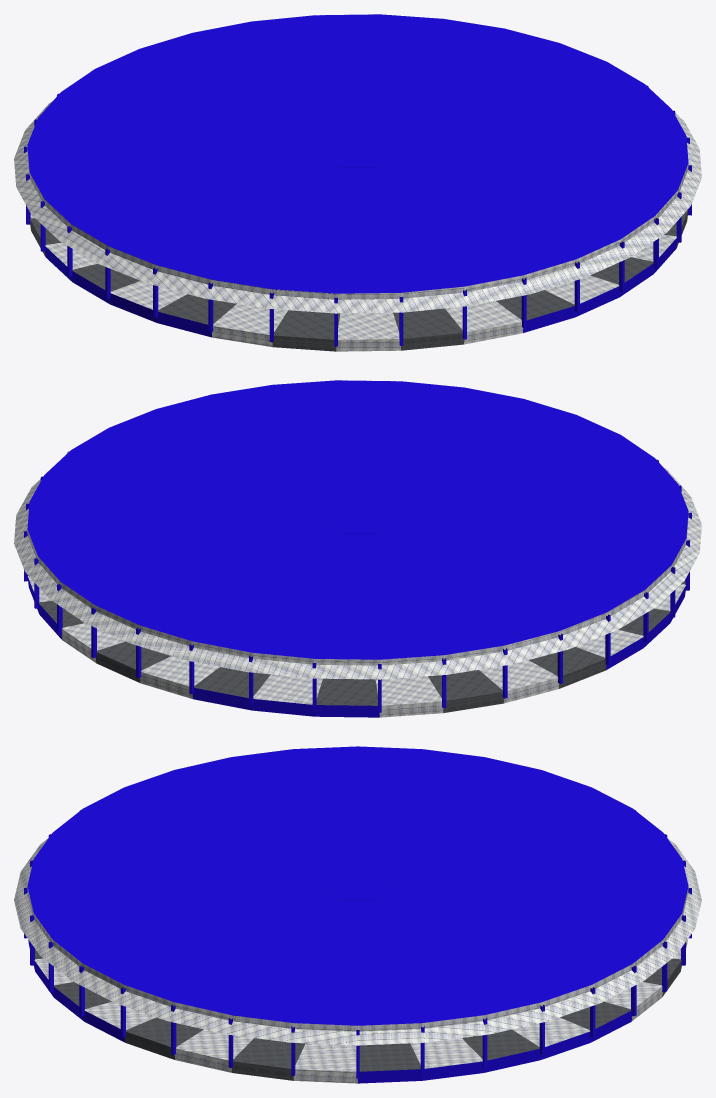
File: Floor 8.fbx
3 views of the same model, one above another, from view 1: azimuth 30°, elevation 25°; view 2: azimuth 150°, elevation 25°; view 3: azimuth 270°, elevation 25° (orthographic).
Visible parts, largest first — view 1: main.001; view 2: main.001; view 3: main.001.
Part boxes in pixels (box(x1,y1,x2,y2)): main.001: box(14, 14, 701, 351); main.001: box(14, 380, 701, 717); main.001: box(14, 746, 701, 1083).
Size of what is drawn, in the model's own units: 20812 by 2106 by 20812.
